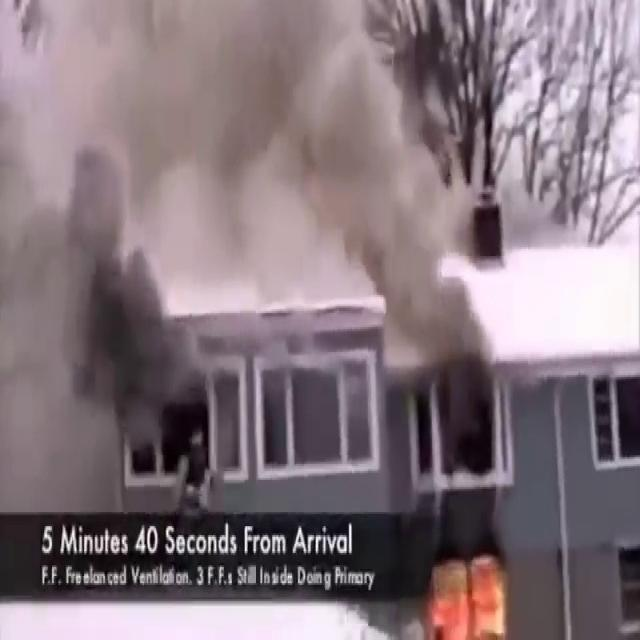Fire: (424, 548, 508, 640)
Smoke: (2, 0, 450, 302), (0, 132, 211, 504)
